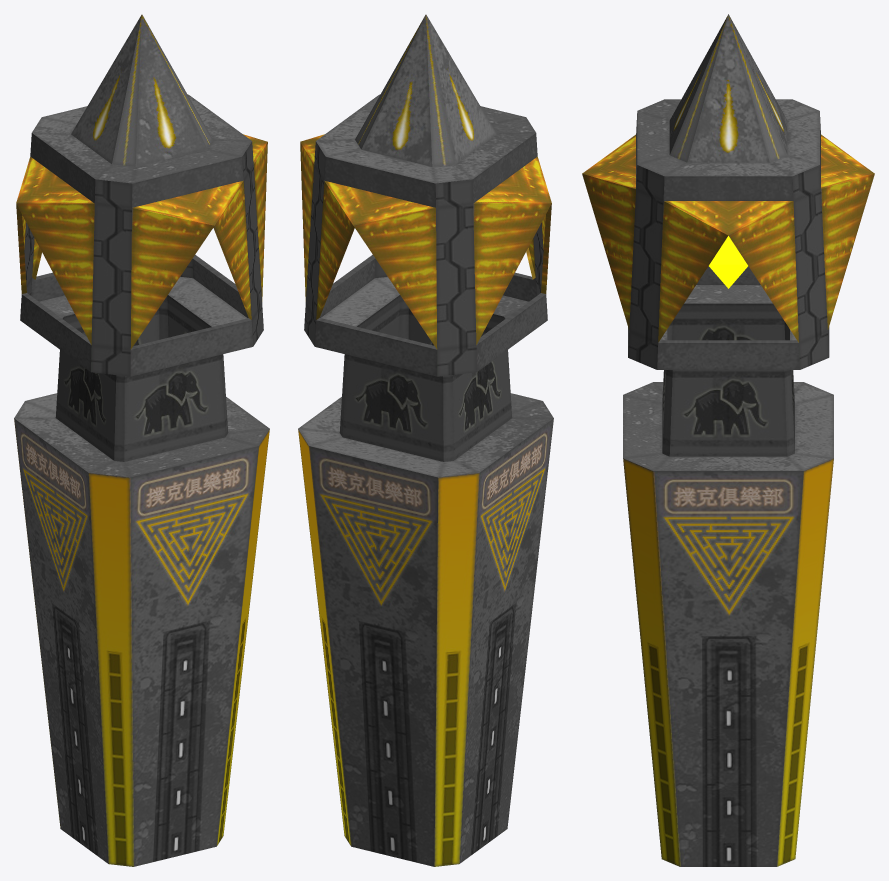
File: Binance_Slon.glb
The picture shows the model from 3 angles, left to right: view 1: azimuth 30°, elevation 25°; view 2: azimuth 150°, elevation 25°; view 3: azimuth 270°, elevation 25°; orthographic projection.
Visible parts, largest first — view 1: Slon; view 2: Slon; view 3: Slon.
Boxes of the visible parts, left/top/right/bottom form: Slon: left=14, top=14, right=269, bottom=866; Slon: left=298, top=14, right=553, bottom=866; Slon: left=582, top=14, right=874, bottom=866.
Bounding box in the file's own units: 0.5591 × 1.74 × 0.5591.
Materials: 2 (1 with a texture image).
